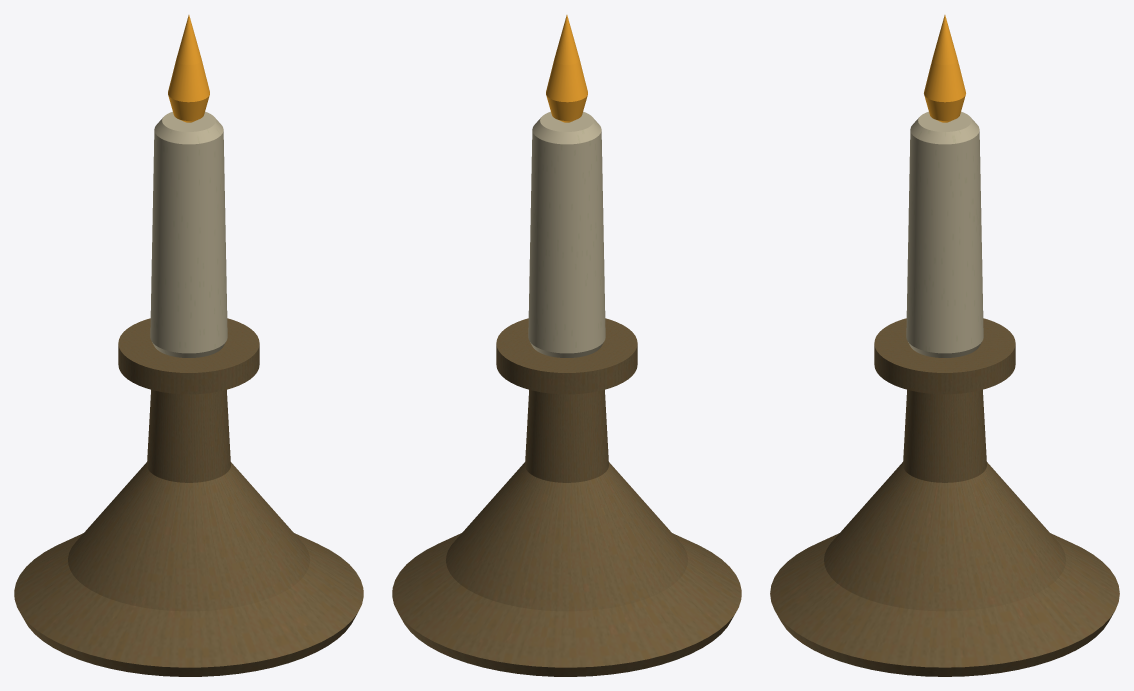
Rendered from light_com_candle_01_64.dae.
3 renders of one model, left to right at view 1: azimuth 30°, elevation 25°; view 2: azimuth 150°, elevation 25°; view 3: azimuth 270°, elevation 25°, orthographic.
Visible parts, largest first — view 1: bronze, wax, flame; view 2: bronze, wax, flame; view 3: bronze, wax, flame.
Boxes of the visible parts, x1,y1,x2,y2 form: bronze: (14,318,363,676); wax: (150,111,227,357); flame: (168,15,209,122); bronze: (392,318,741,676); wax: (528,111,605,357); flame: (546,15,587,122); bronze: (770,318,1119,676); wax: (906,111,983,357); flame: (924,15,965,122).
Size of the model in its own units: 10.4 by 10.4 by 19.42.
